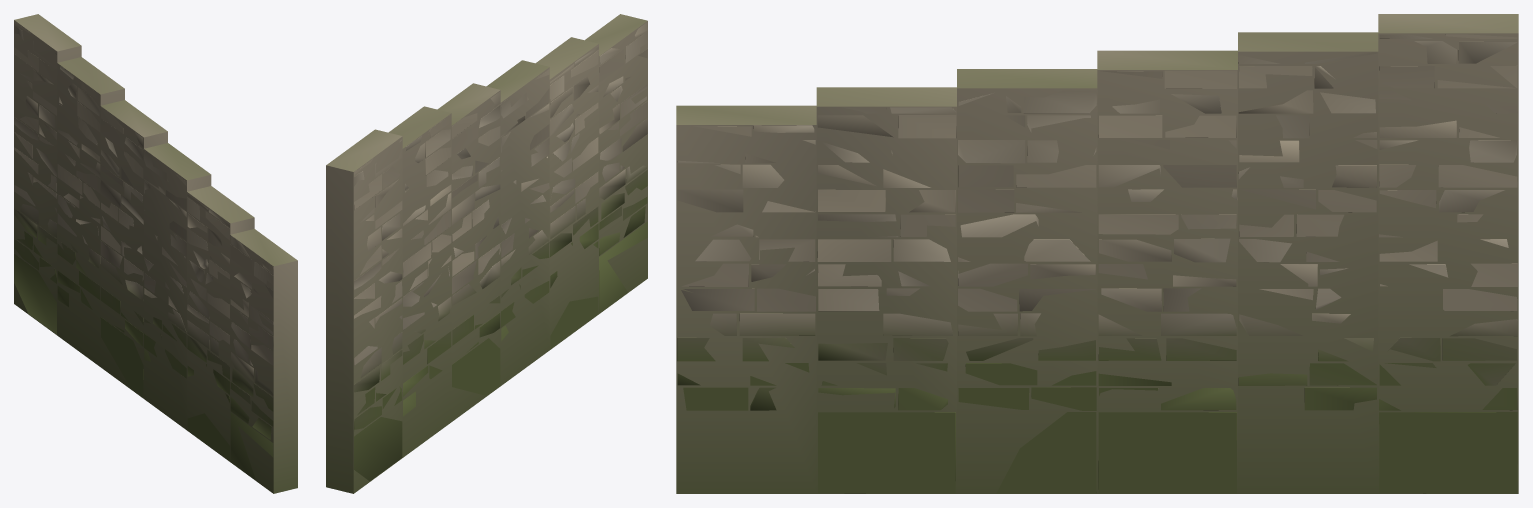
The model's file is harbour_shed_end.glb.
The picture shows the model from 3 angles, left to right: view 1: azimuth 30°, elevation 25°; view 2: azimuth 150°, elevation 25°; view 3: azimuth 270°, elevation 25°; orthographic projection. The views are drawn at different scales.
Parts seen in each view (by area): view 1: harbour_shed_end_far, harbour_shed_end; view 2: harbour_shed_end_far, harbour_shed_end; view 3: harbour_shed_end_far, harbour_shed_end.
Part boxes in pixels (x1,y1,x2,y2): harbour_shed_end_far: [14, 14, 297, 493]; harbour_shed_end: [14, 21, 273, 480]; harbour_shed_end_far: [326, 14, 647, 493]; harbour_shed_end: [354, 22, 647, 481]; harbour_shed_end_far: [676, 14, 1518, 493]; harbour_shed_end: [677, 34, 1517, 493].
Bounding box in the file's own units: 3.02 × 33.51 × 55.5.
